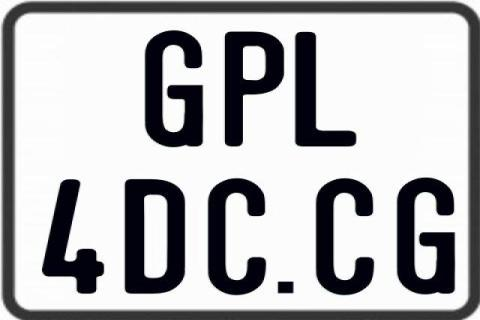0: (39, 177, 101, 293)
C: (316, 178, 374, 300), (206, 177, 265, 296)
D: (125, 178, 186, 294)
G: (143, 28, 205, 148), (394, 175, 454, 297)
L: (292, 32, 356, 150)
P: (225, 30, 286, 146)
